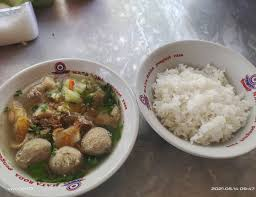Bakso sedang: (47, 147, 92, 177), (13, 138, 53, 168), (83, 127, 119, 154)
Nasi putih: (153, 61, 248, 145)
